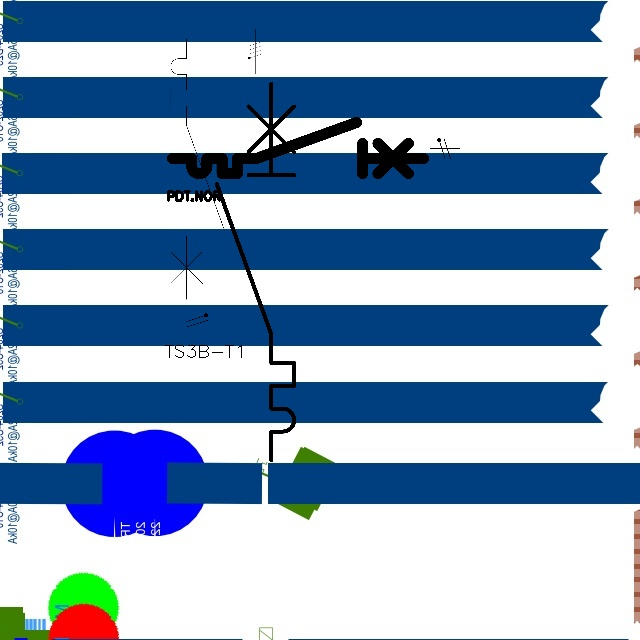interruptor_termomagnetico: (207, 73, 304, 469), (164, 32, 231, 306), (166, 116, 430, 180)
